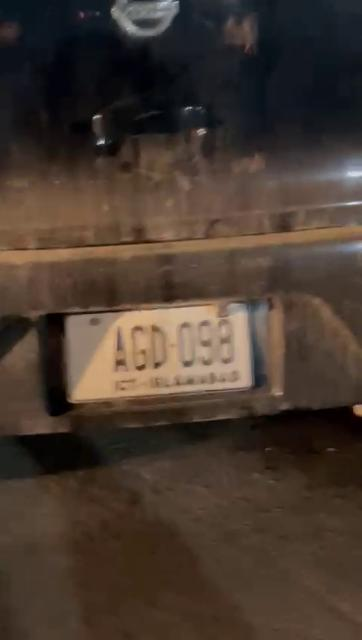plate: (63, 300, 258, 404)
